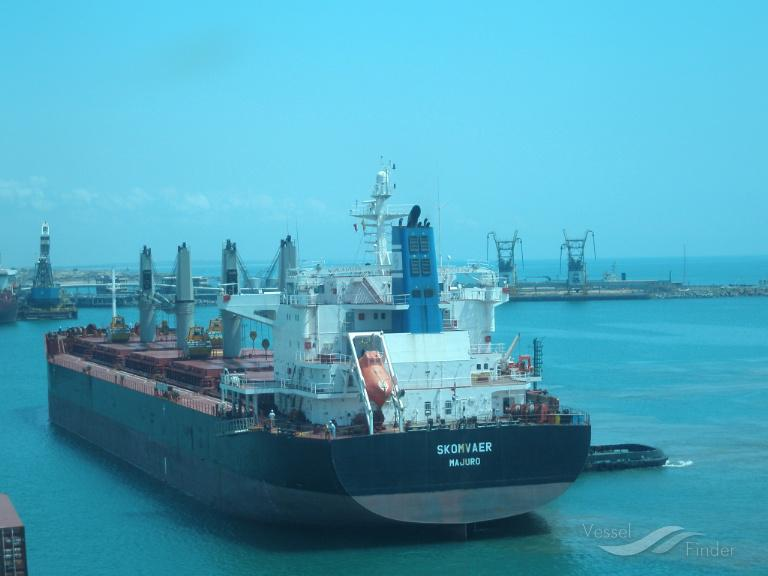OCR: (432, 437, 498, 476)
